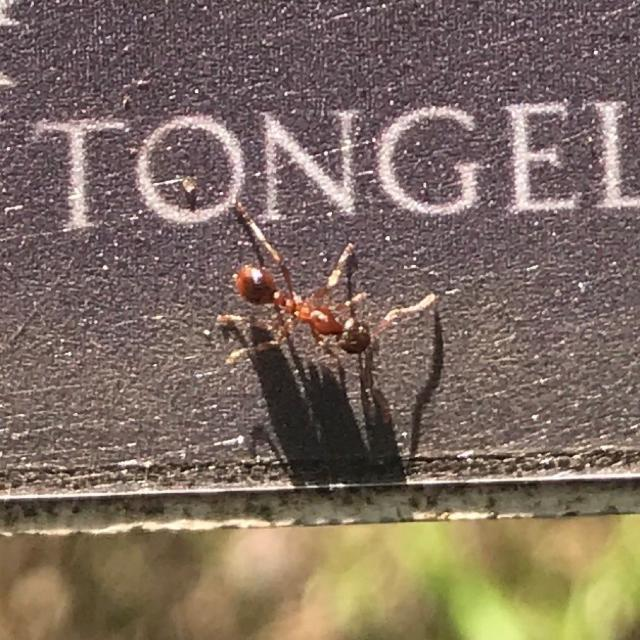Myrmica: (216, 232, 410, 404)
